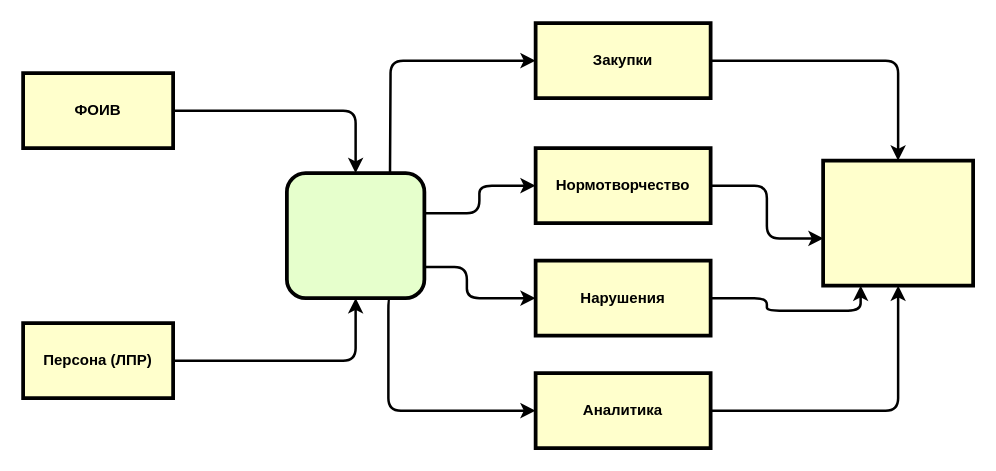
Image size: 996x471. Some labels were removed from this diagram. Each missing label, with the centre of its shape:
"Действие выраженное глаголом" belongs at (x=355, y=235).
"Перечень согласно файлу .xlsx (ОКПД-2). Возможно, спецтемы по тематикам" belongs at (x=897, y=222).
